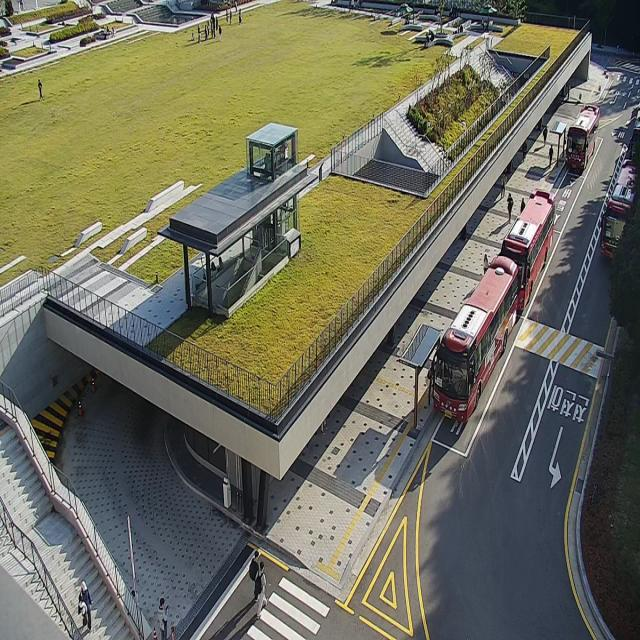queue: (412, 331, 440, 433)
